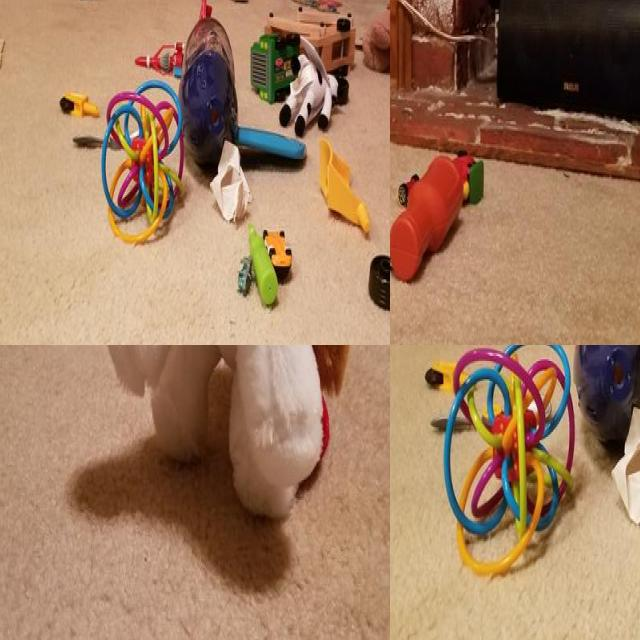toy: (101, 345, 354, 501), (445, 345, 576, 573), (98, 82, 191, 240), (392, 140, 464, 298), (190, 2, 243, 163), (248, 10, 360, 81), (579, 345, 640, 458), (280, 35, 347, 135), (316, 137, 373, 239), (236, 118, 308, 168), (245, 220, 281, 309), (448, 140, 483, 210), (422, 348, 471, 392), (362, 246, 390, 319), (262, 220, 292, 283), (137, 40, 186, 78), (233, 248, 264, 307), (56, 88, 100, 126), (391, 156, 422, 203), (291, 0, 345, 18)
